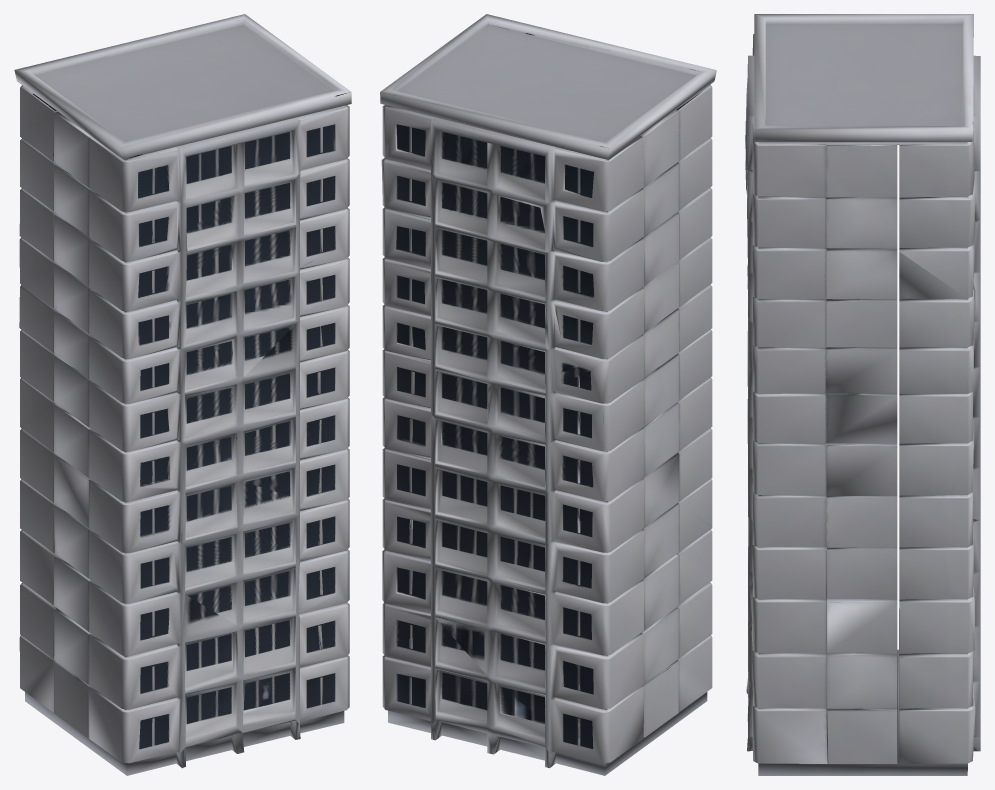
The model's file is 07-residential-tower.glb.
The picture shows the model from 3 angles, left to right: view 1: azimuth 30°, elevation 25°; view 2: azimuth 150°, elevation 25°; view 3: azimuth 270°, elevation 25°; orthographic projection. The views are drawn at different scales.
Visible parts, largest first — view 1: geometry_0; view 2: geometry_0; view 3: geometry_0.
Boxes of the visible parts, bbox=[...] form: geometry_0: bbox=[14, 14, 351, 775]; geometry_0: bbox=[380, 14, 716, 775]; geometry_0: bbox=[745, 14, 980, 775].
Size of the model in its own units: 0.3628 by 0.9502 by 0.312.
1 material, 1 textured.
